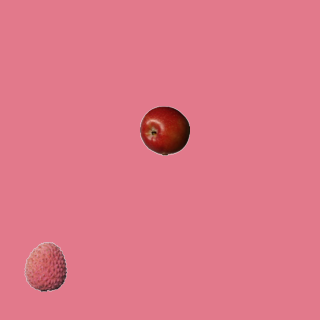Apple Braeburn: (139, 105, 189, 155)
Lychee: (20, 241, 70, 291)
